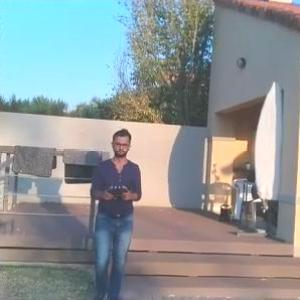follow: (84, 123, 145, 299)
